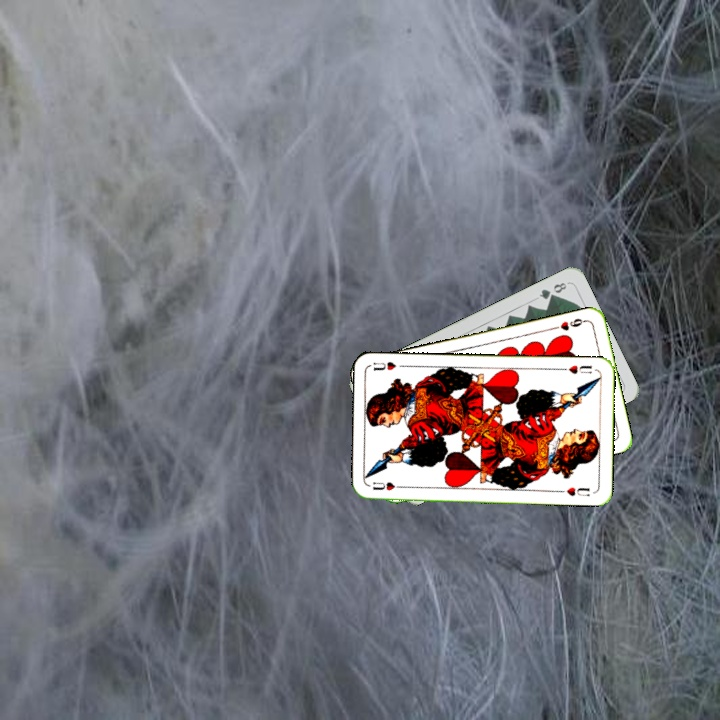G8: (535, 278, 569, 302)
H9: (549, 314, 589, 333)
HU: (369, 478, 407, 493), (558, 361, 594, 376)
